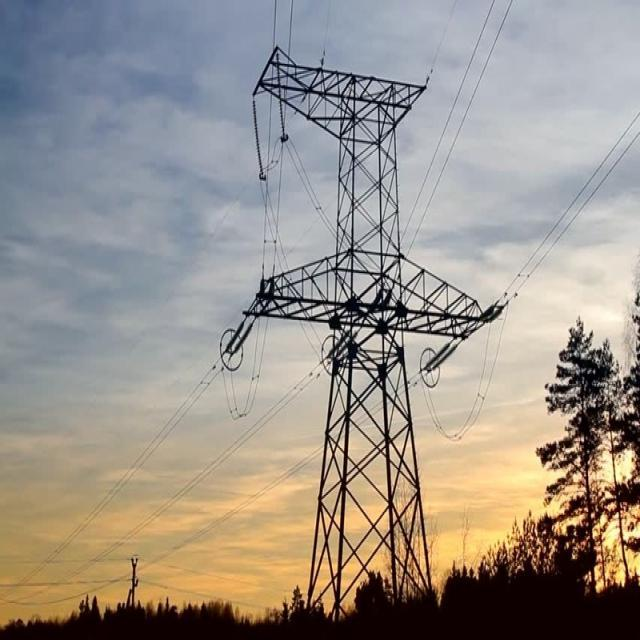non-critical vegetation: (246, 27, 454, 583)
